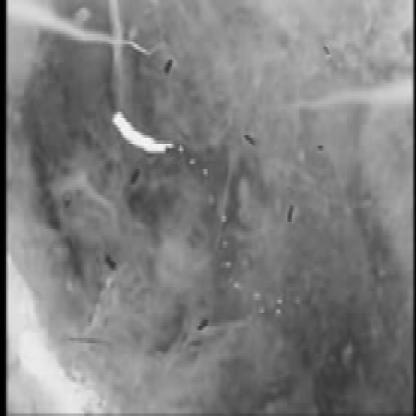rehkitze: (109, 107, 176, 165)
